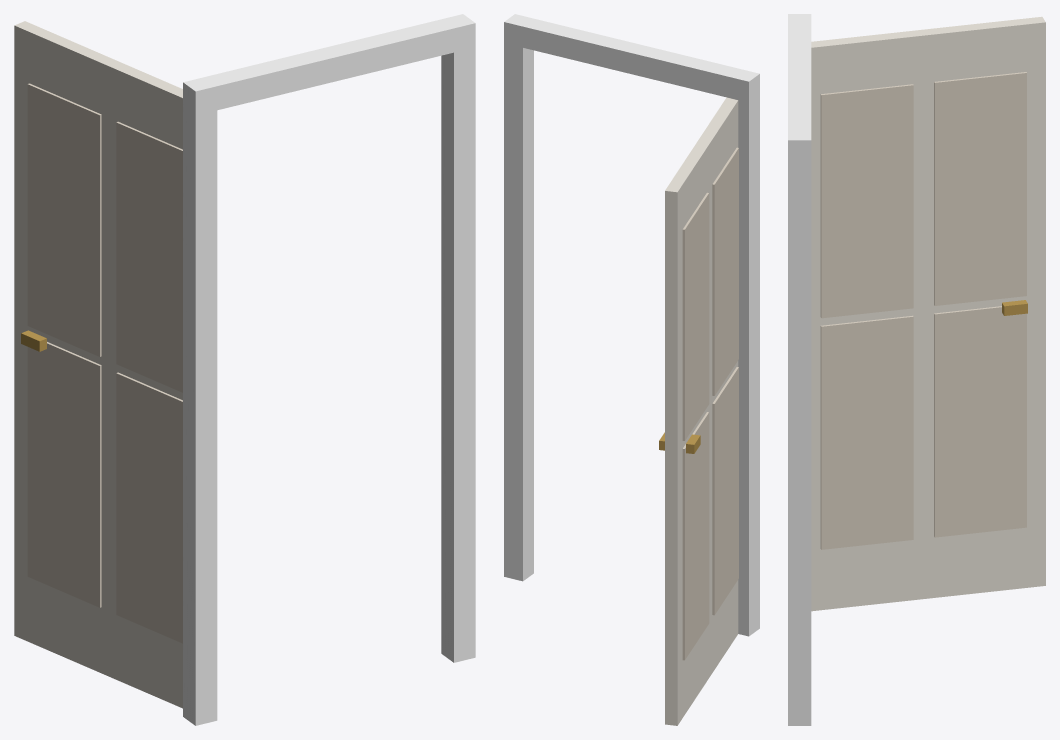
File: interior_door_open.glb
3 renders of one model, left to right at view 1: azimuth 30°, elevation 25°; view 2: azimuth 150°, elevation 25°; view 3: azimuth 270°, elevation 25°, orthographic. The views are drawn at different scales.
Visible parts, largest first — view 1: door_slab, left_jamb, right_jamb, panel_back_2_2, panel_back_1_2, panel_back_1_1, panel_back_2_1, top_jamb; view 2: door_slab, right_jamb, left_jamb, top_jamb, panel_back_2_2, panel_back_1_2, panel_back_1_1, panel_back_2_1; view 3: door_slab, panel_front_1_1, panel_front_2_1, panel_front_2_2, panel_front_1_2, right_jamb, top_jamb.
Part boxes in pixels (x1=…): door_slab: x1=14, y1=21, x2=182, y2=708; left_jamb: x1=183, y1=77, x2=217, y2=725; right_jamb: x1=441, y1=25, x2=475, y2=662; panel_back_2_2: x1=27, y1=83, x2=101, y2=356; panel_back_1_2: x1=27, y1=342, x2=101, y2=607; panel_back_1_1: x1=116, y1=372, x2=182, y2=643; panel_back_2_1: x1=116, y1=121, x2=182, y2=392; top_jamb: x1=183, y1=14, x2=475, y2=114; door_slab: x1=665, y1=97, x2=738, y2=725; right_jamb: x1=504, y1=22, x2=533, y2=581; left_jamb: x1=730, y1=77, x2=759, y2=636; top_jamb: x1=504, y1=14, x2=759, y2=102; panel_back_2_2: x1=682, y1=192, x2=709, y2=440; panel_back_1_2: x1=682, y1=412, x2=709, y2=660; panel_back_1_1: x1=712, y1=367, x2=738, y2=615; panel_back_2_1: x1=712, y1=147, x2=738, y2=395; door_slab: x1=811, y1=16, x2=1045, y2=611; panel_front_1_1: x1=820, y1=315, x2=913, y2=549; panel_front_2_1: x1=820, y1=84, x2=913, y2=318; panel_front_2_2: x1=934, y1=72, x2=1026, y2=305; panel_front_1_2: x1=934, y1=306, x2=1026, y2=537; right_jamb: x1=788, y1=130, x2=811, y2=725; top_jamb: x1=788, y1=14, x2=811, y2=161.
Bounding box in the file's own units: 1.14 × 2.1 × 0.8373.
